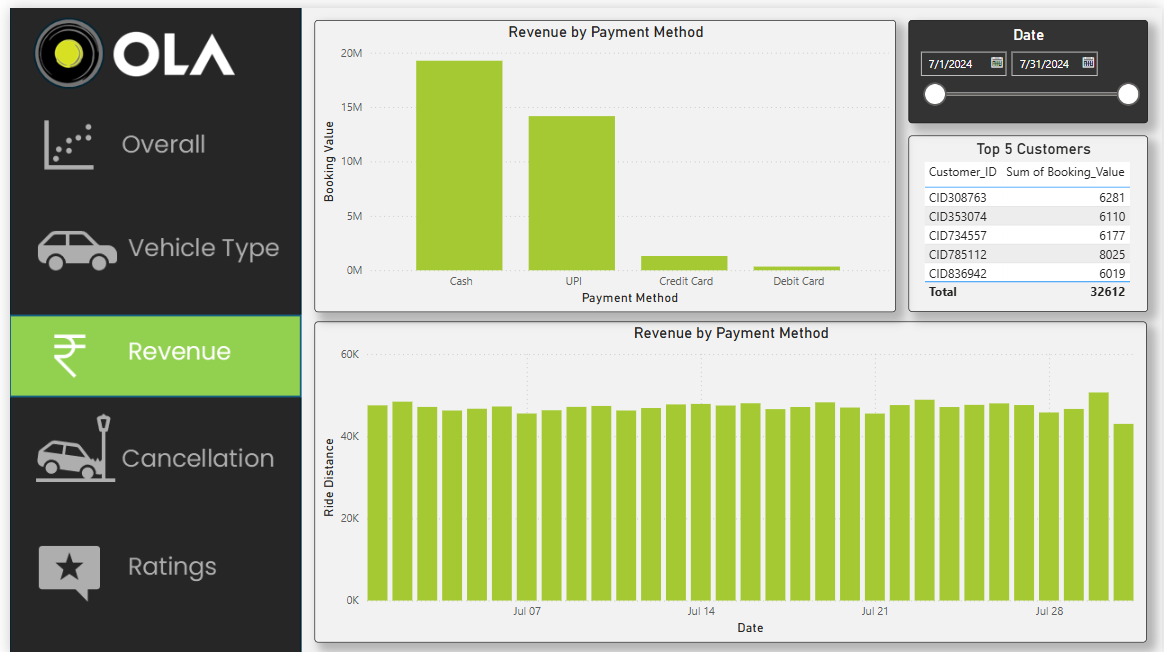

Layout of this report page (visuals, bound fields, positions):
{"tool":"powerbi","page":{"name":"Revenue","canvas":[1280,720],"ordinal":2},"visuals":[{"type":"actionButton","box":[0,222.7,324.5,89.1],"z":0},{"type":"actionButton","box":[0,111.3,324.5,89.1],"z":1000},{"type":"actionButton","box":[0,445.4,324.5,97],"z":2000},{"type":"actionButton","box":[0,574.2,324.5,97],"z":3000},{"type":"columnChart","title":"Revenue by Payment Method","fields":{"Y":["Sum(July.Booking_Value)"],"Category":["July.Payment_Method"]},"box":[339,12.7,646.1,324.6],"z":4000},{"type":"columnChart","title":"Revenue by Payment Method","fields":{"Y":["Sum(July.Ride_Distance)"],"Category":["July.Date"]},"box":[339,348.5,924.6,356.5],"z":5000},{"type":"slicer","title":"Date","fields":{"Values":["July.Date"]},"box":[997.8,12.7,265.8,114.6],"z":6000},{"type":"tableEx","title":"Top 5 Customers","fields":{"Values":["July.Customer_ID","Sum(July.Booking_Value)"]},"box":[997.8,141.6,265.8,195.7],"z":7000}]}

Visuals, with their boxes in screenshot pixels (x1, y1, x2, y2), scaled from the page's 1280x720 canvas onto the 1164x652 screenshot:
actionButton: left=0, top=202, right=295, bottom=282
actionButton: left=0, top=101, right=295, bottom=181
actionButton: left=0, top=403, right=295, bottom=491
actionButton: left=0, top=520, right=295, bottom=608
"Revenue by Payment Method" columnChart: left=308, top=12, right=896, bottom=305
"Revenue by Payment Method" columnChart: left=308, top=316, right=1149, bottom=638
"Date" slicer: left=907, top=12, right=1149, bottom=115
"Top 5 Customers" tableEx: left=907, top=128, right=1149, bottom=305
